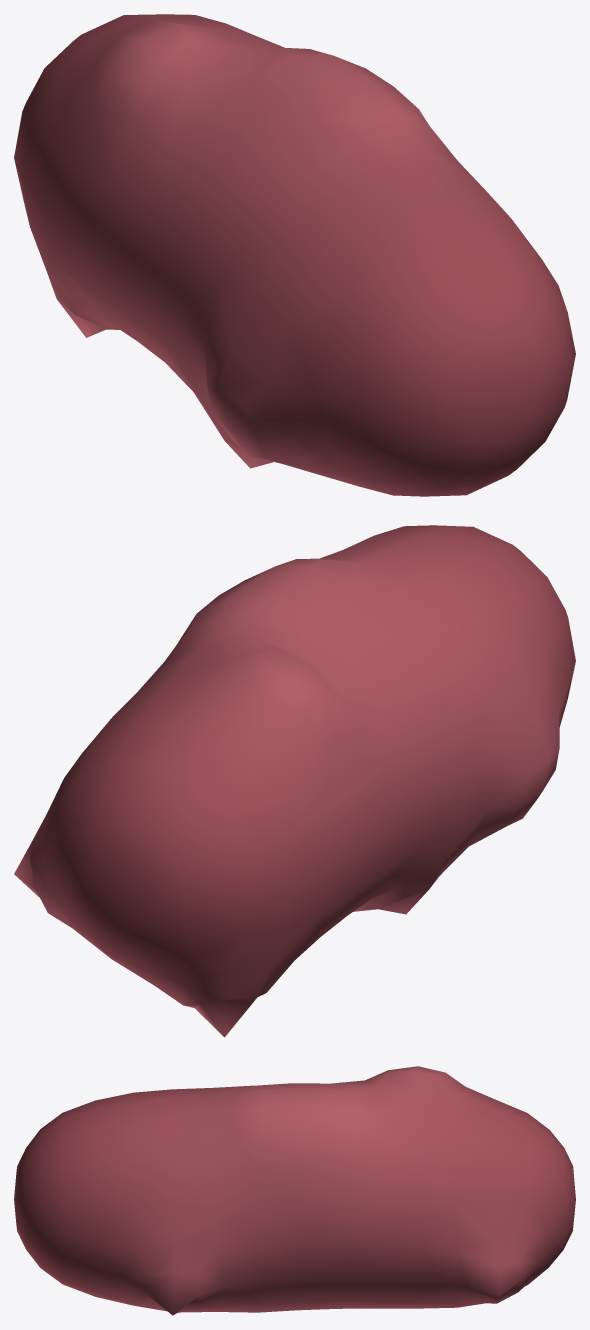
File: microscopic-bacteria-lumpy-bacterium_v3.glb
3 views of the same model, one above another, from view 1: azimuth 30°, elevation 25°; view 2: azimuth 150°, elevation 25°; view 3: azimuth 270°, elevation 25° (orthographic). The views are drawn at different scales.
Visible parts, largest first — view 1: Lumpy Bacterium_v3; view 2: Lumpy Bacterium_v3; view 3: Lumpy Bacterium_v3.
Part boxes in pixels (left/top/right/bottom): Lumpy Bacterium_v3: left=14, top=14, right=575, bottom=496; Lumpy Bacterium_v3: left=14, top=525, right=575, bottom=1037; Lumpy Bacterium_v3: left=14, top=1066, right=575, bottom=1315.
Size of the model in its own units: 0.239 by 0.2355 by 0.5.
